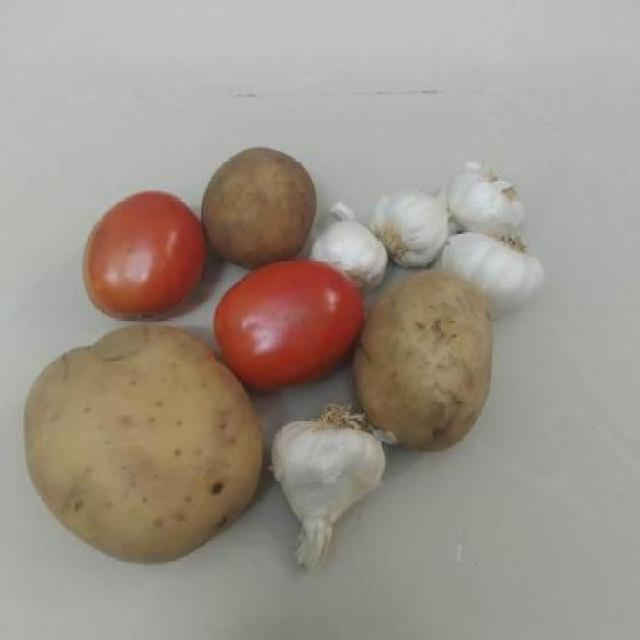Garlic: (278, 403, 394, 577), (456, 230, 552, 308), (368, 182, 450, 266), (448, 165, 518, 232)
Potato: (12, 336, 278, 572), (363, 272, 494, 448), (196, 126, 330, 271)
Tomato: (211, 262, 380, 391), (68, 189, 204, 328)
